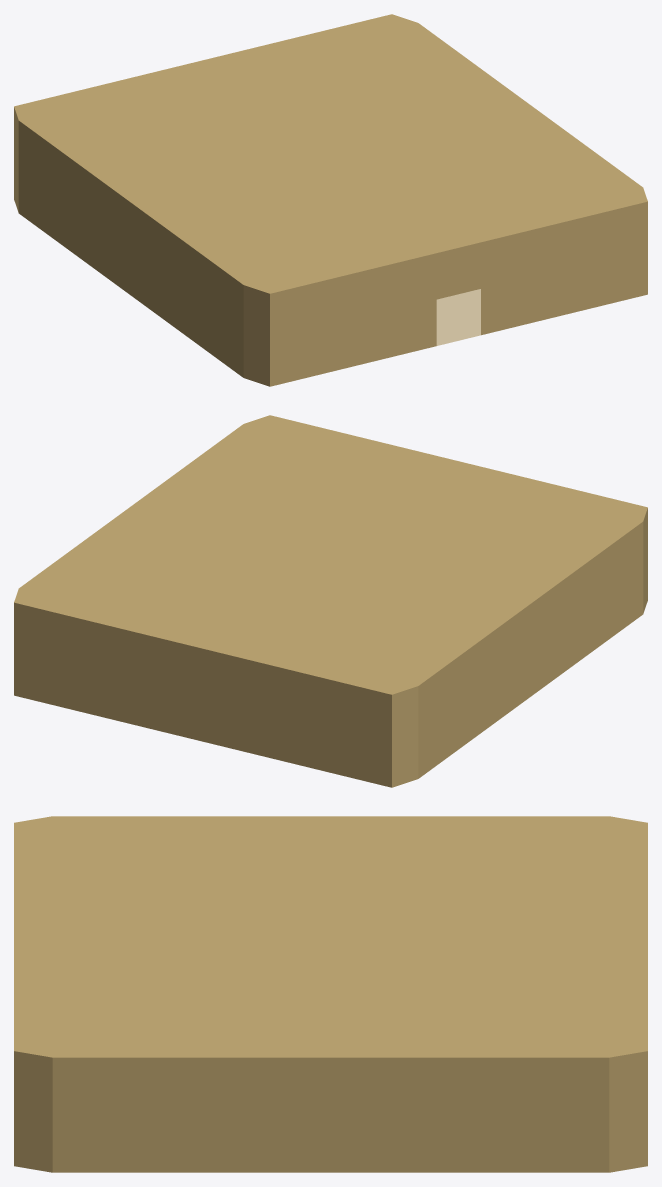
The model's file is RoomExit.fbx.
The picture shows the model from 3 angles, top to bottom: view 1: azimuth 30°, elevation 25°; view 2: azimuth 150°, elevation 25°; view 3: azimuth 270°, elevation 25°; orthographic projection. The views are drawn at different scales.
Parts seen in each view (by area): view 1: Cube; view 2: Cube; view 3: Cube.
Boxes of the visible parts, x1,y1,x2,y2 form: Cube: [14, 14, 647, 386]; Cube: [14, 415, 647, 787]; Cube: [14, 816, 647, 1172].
Size of the model in its own units: 3595 by 799 by 3989.
